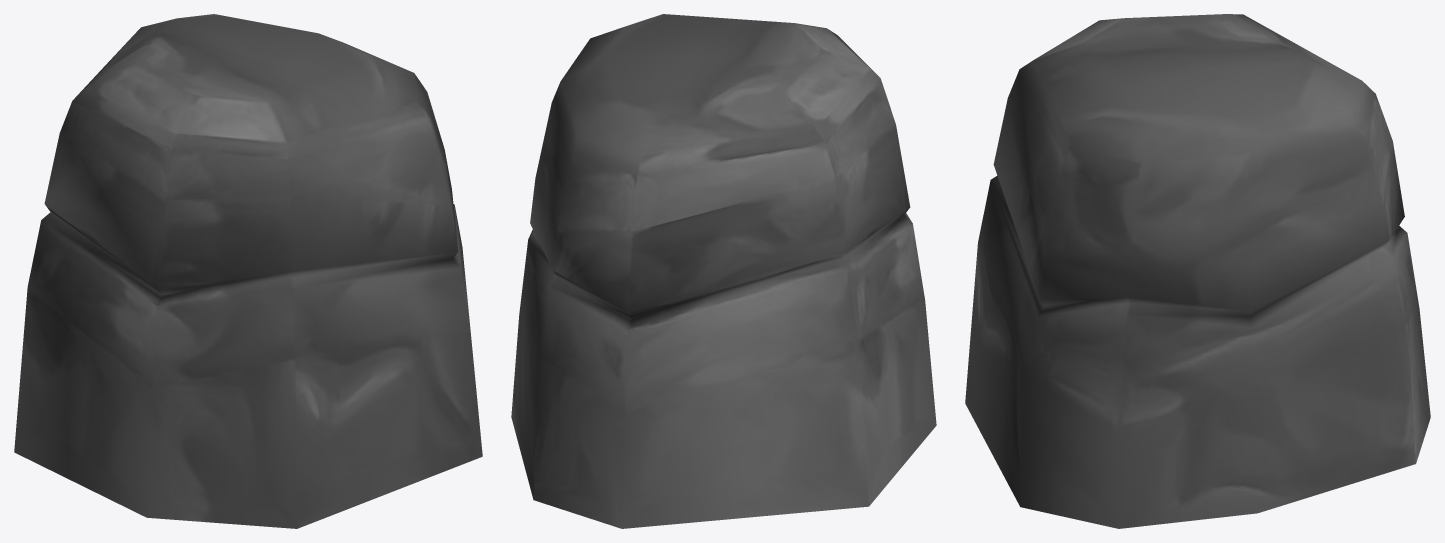
File: roca3.fbx
3 views of the same model, side by side, from view 1: azimuth 30°, elevation 25°; view 2: azimuth 150°, elevation 25°; view 3: azimuth 270°, elevation 25° (orthographic).
Parts seen in each view (by area): view 1: sm_roca_1; view 2: sm_roca_1; view 3: sm_roca_1.
Boxes of the visible parts, x1=… form: sm_roca_1: x1=14, y1=14, x2=482, y2=528; sm_roca_1: x1=511, y1=14, x2=936, y2=528; sm_roca_1: x1=965, y1=14, x2=1430, y2=528.
Size of the model in its own units: 352 by 325 by 364.
Materials: 1 (1 with a texture image).
